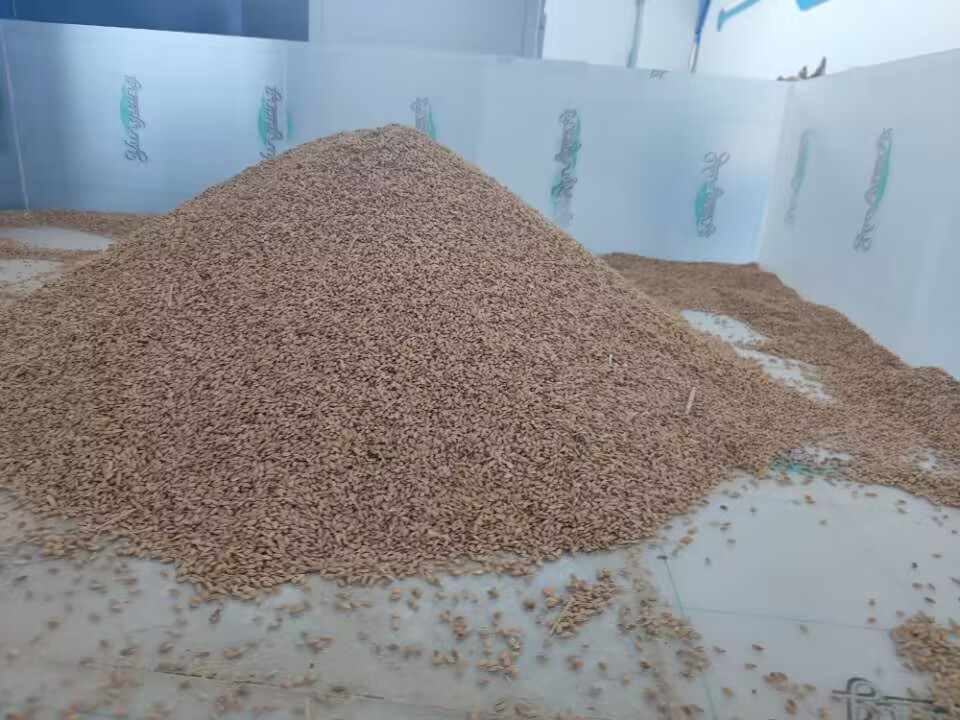Grain: (115, 118, 637, 496)
